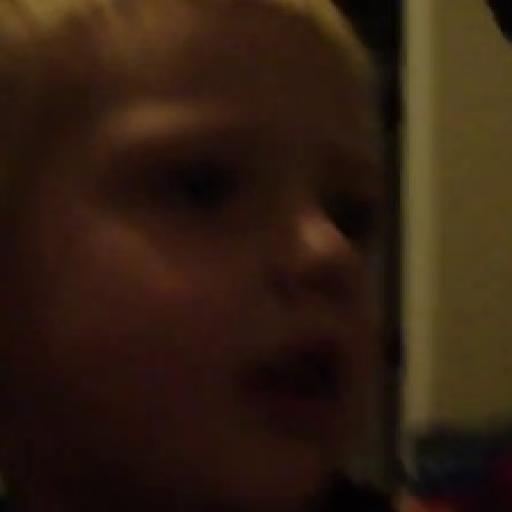Autism: (18, 0, 432, 448)
